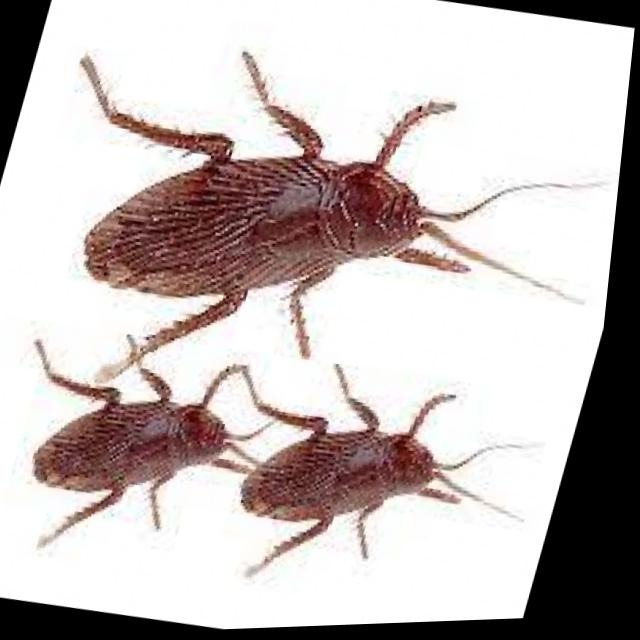Cockroach: (0, 0, 640, 459), (184, 298, 560, 633), (0, 275, 339, 605)
